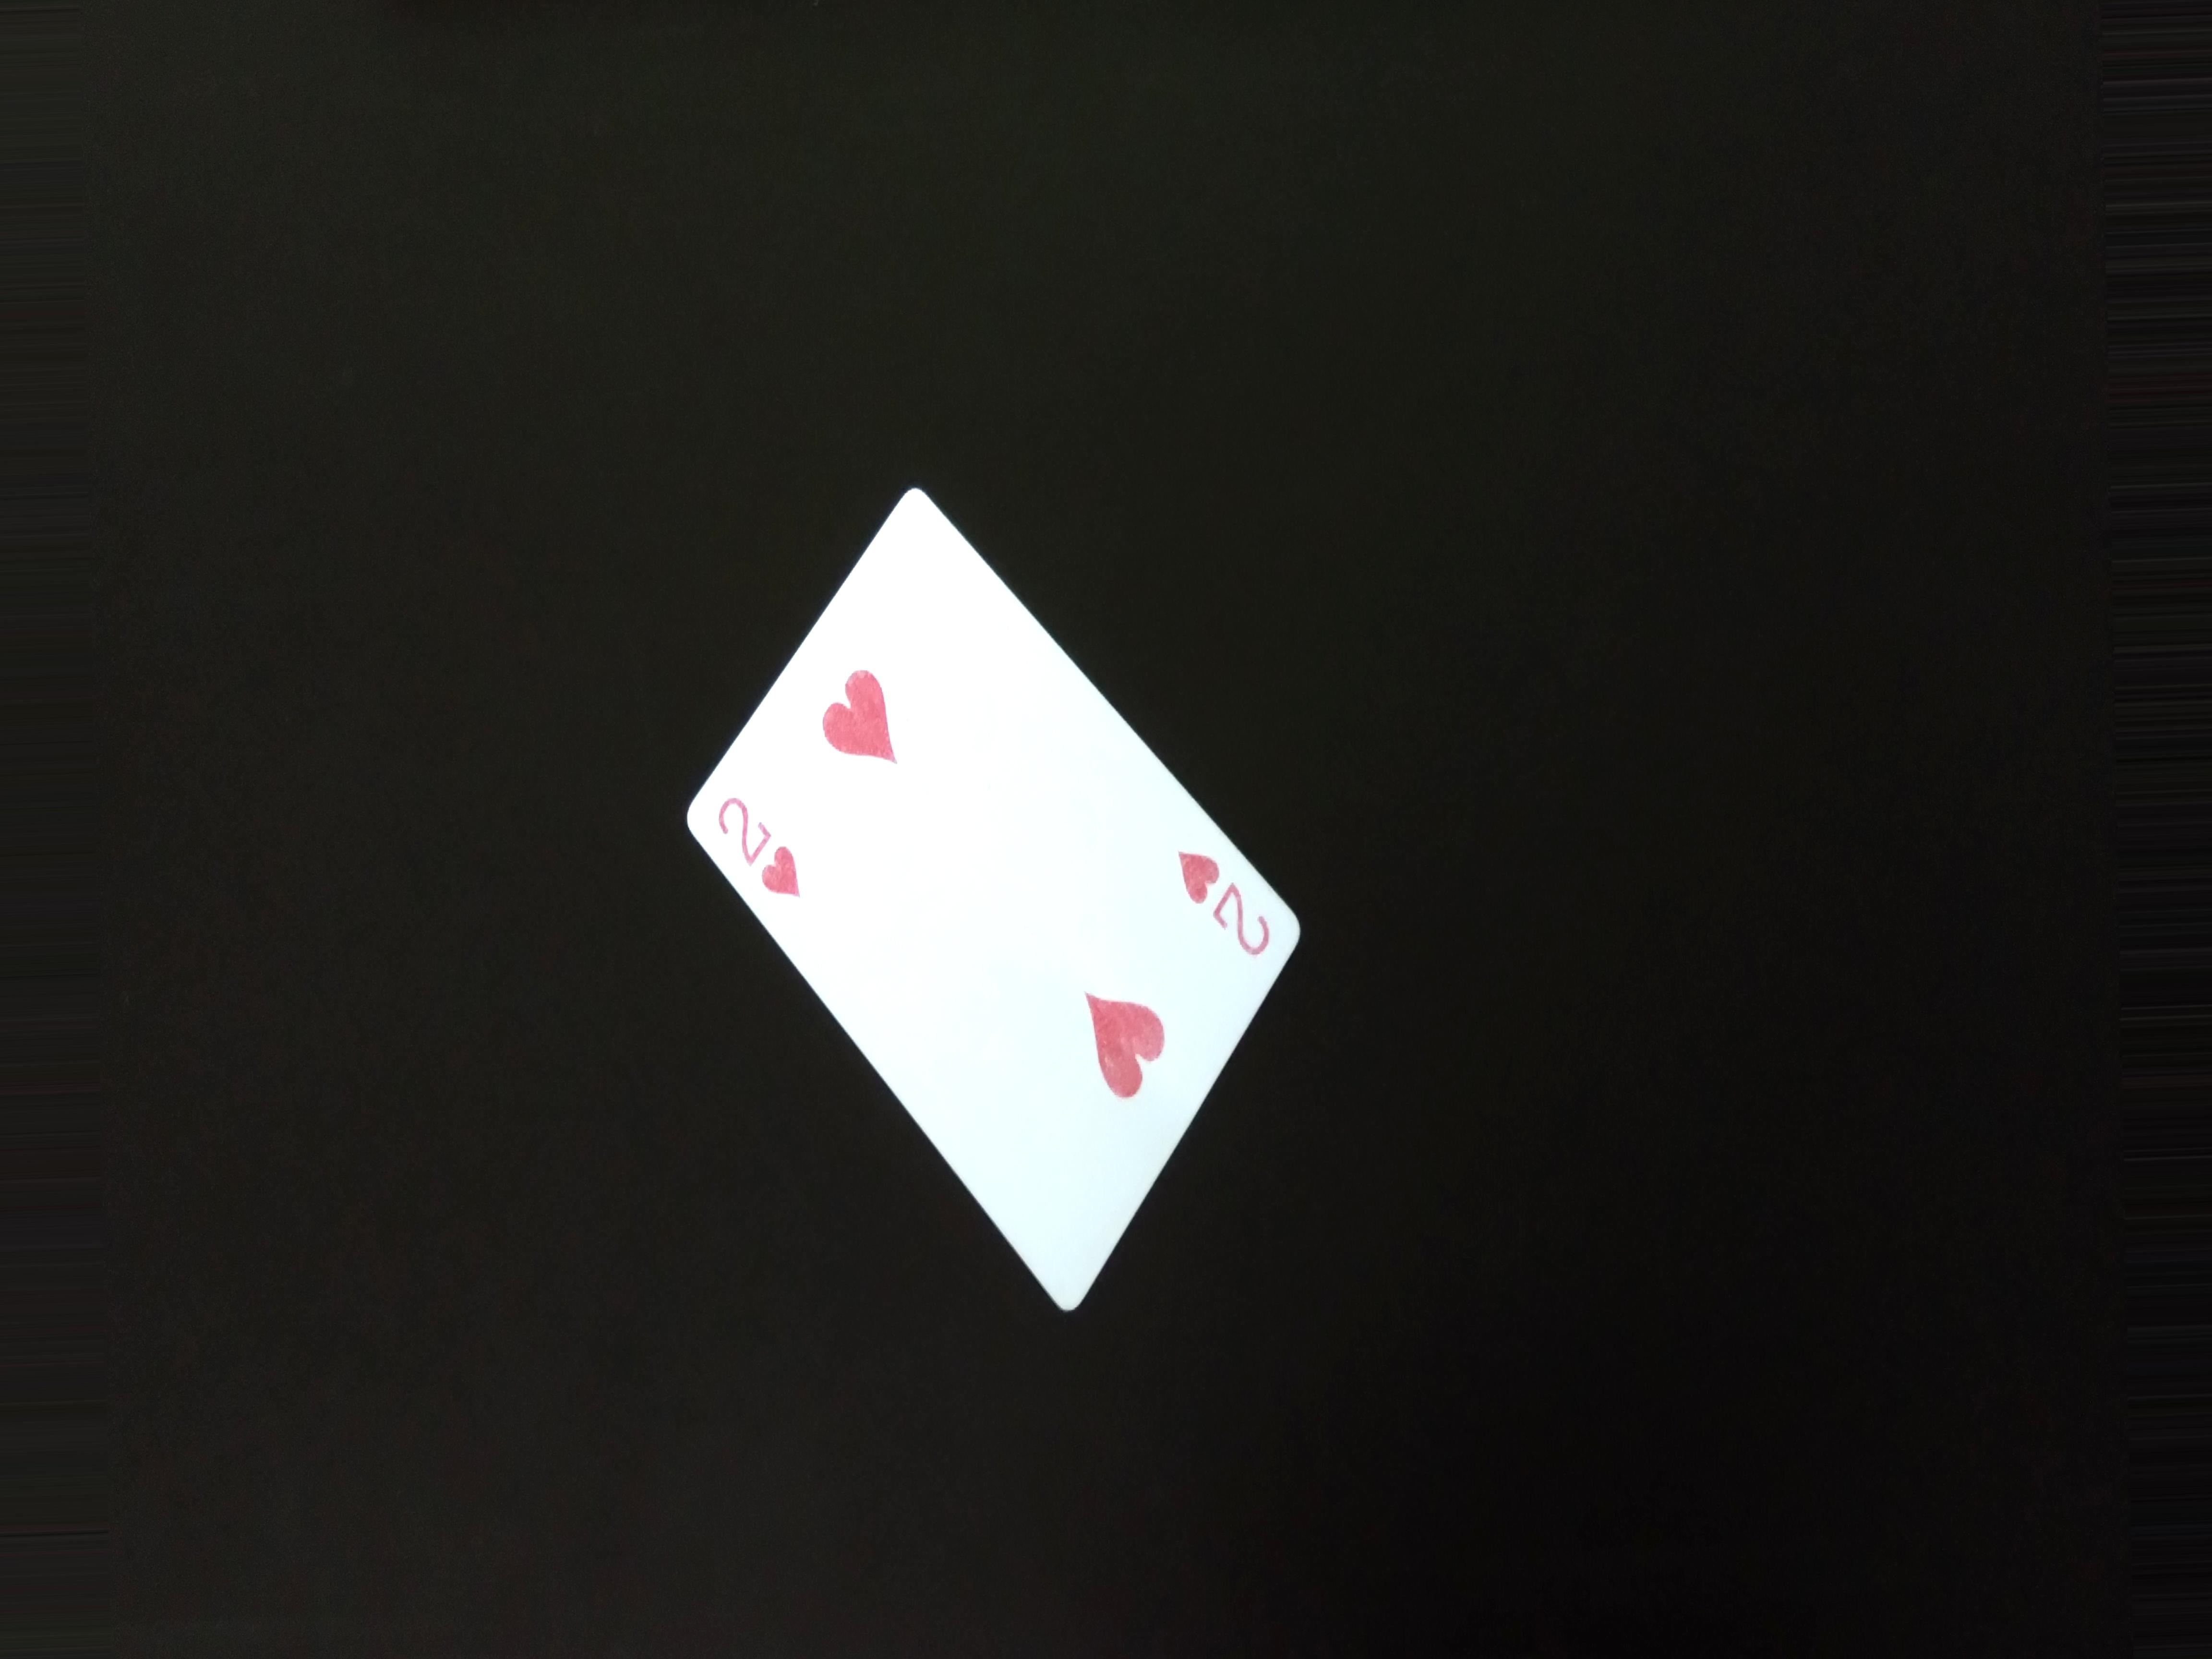2H: (1153, 823, 1287, 967)
